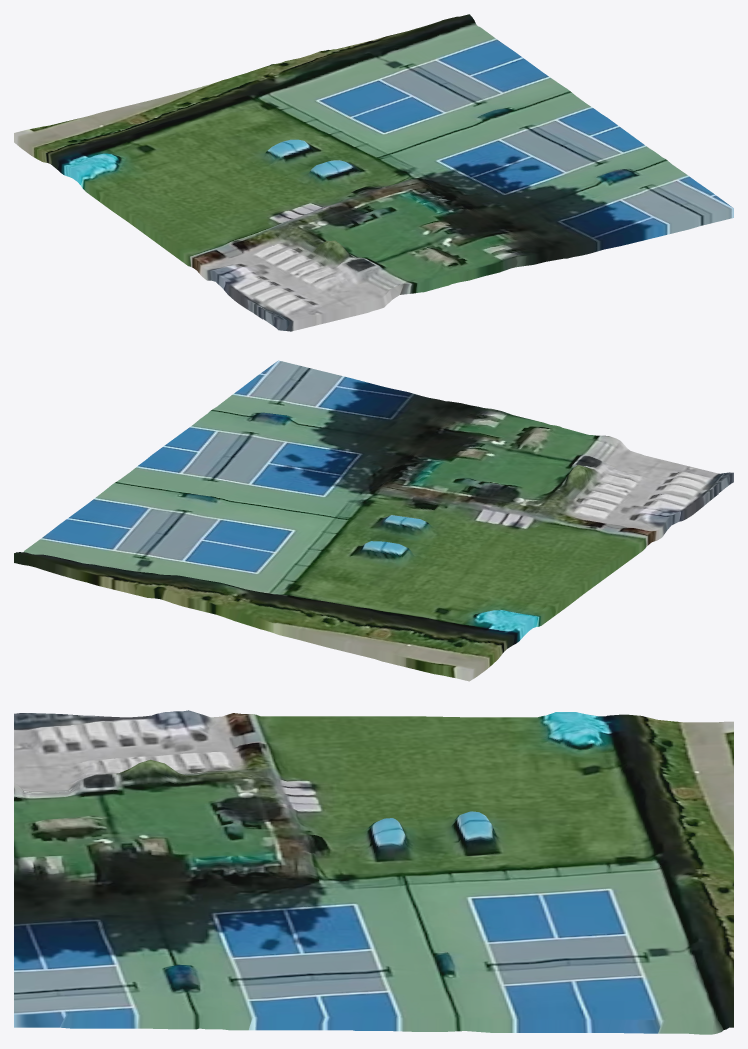
The model's file is z20-167780-405212-h0-yup-uvflip-v3-world.glb.
The picture shows the model from 3 angles, top to bottom: view 1: azimuth 30°, elevation 25°; view 2: azimuth 150°, elevation 25°; view 3: azimuth 270°, elevation 25°; orthographic projection. The views are drawn at different scales.
Bounding box in the file's own units: 30.16 × 2.08 × 30.32.
1 material, 1 textured.
